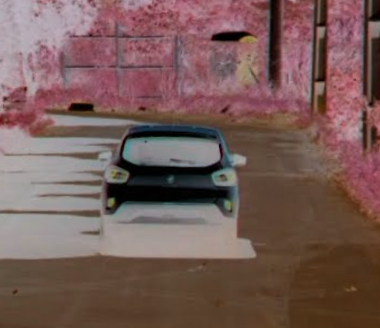car: (88, 111, 253, 258)
